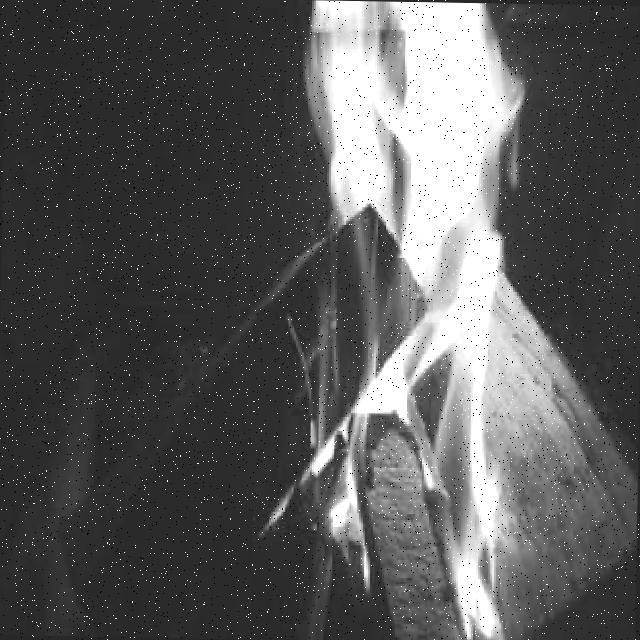Fire: (240, 2, 544, 634)
